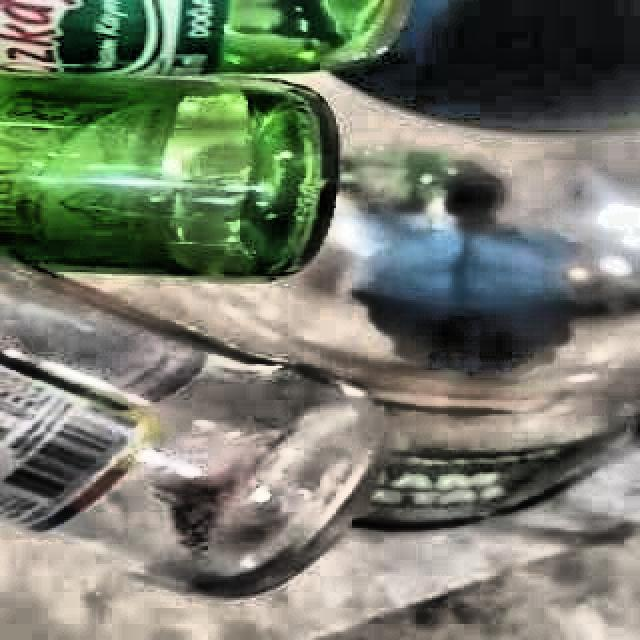glass: (0, 259, 376, 596)
